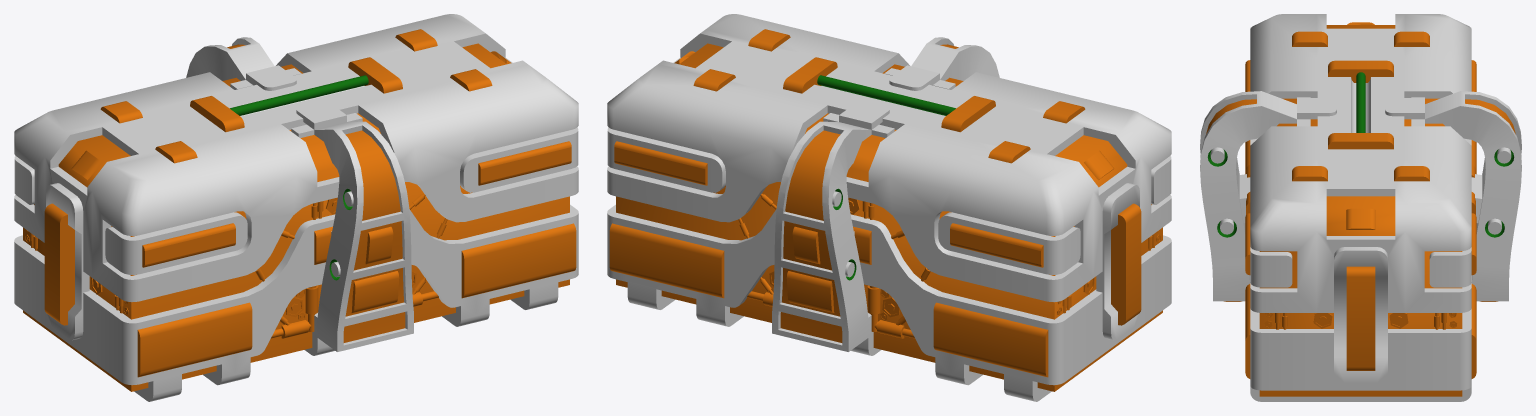
The picture shows the model from 3 angles, left to right: view 1: azimuth 30°, elevation 25°; view 2: azimuth 150°, elevation 25°; view 3: azimuth 270°, elevation 25°; orthographic projection. The views are drawn at different scales.
Visible parts, largest first — view 1: Cylinder.020_copy_low; view 2: Cylinder.020_copy_low; view 3: Cylinder.020_copy_low.
Boxes of the visible parts, x1,y1,x2,y2 form: Cylinder.020_copy_low: (14,14,578,401); Cylinder.020_copy_low: (607,14,1171,401); Cylinder.020_copy_low: (1200,14,1521,401).
Size of the model in its own units: 4.76 by 2.1 by 2.9.
